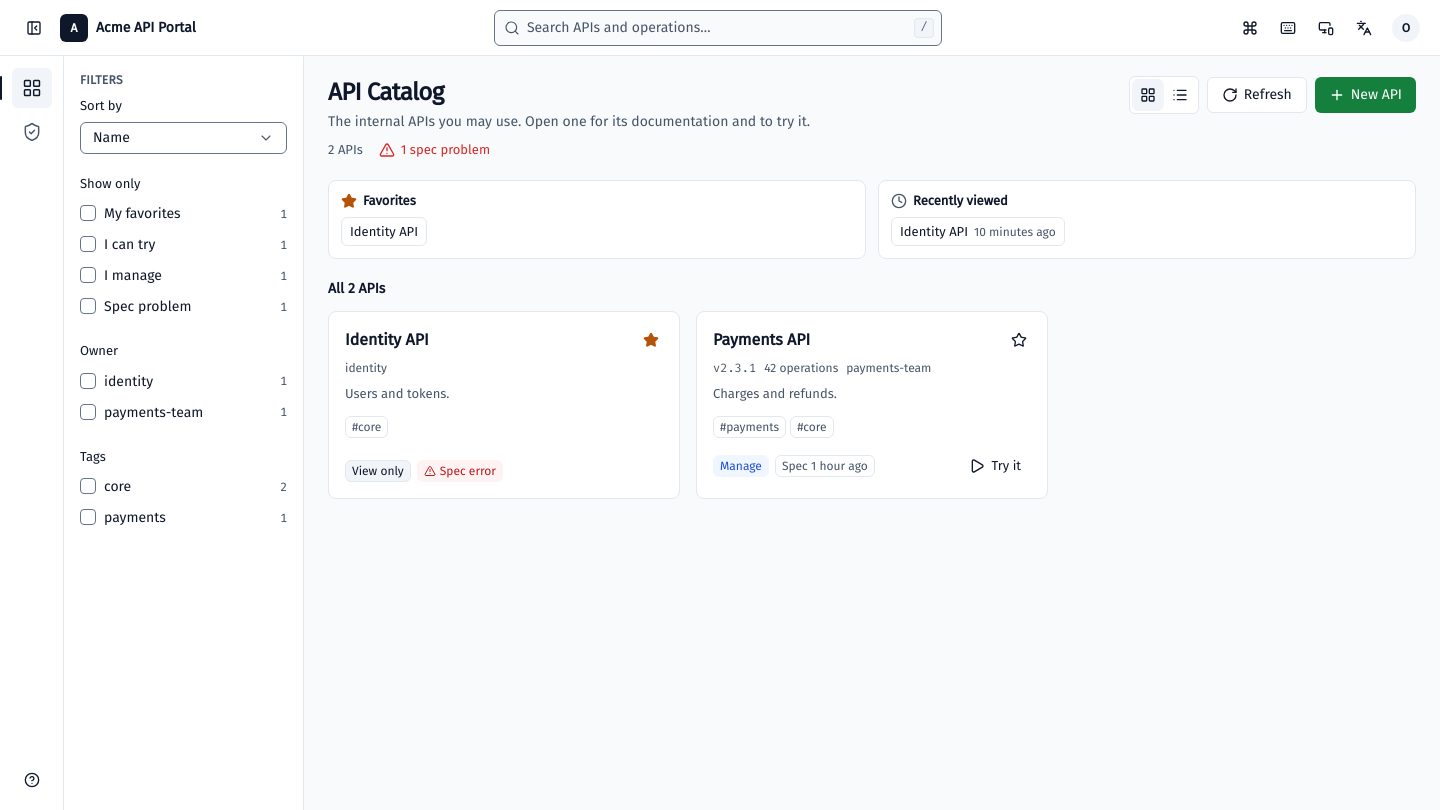
Test: shell › SHOW_PROJECT_LINK=false hides the link; the version stays in the shortcuts window
Expected: the heading "API Catalog" is shown, [328,78,444,106]
Step 1. Click the button named "Keyboard shortcuts" → (1288, 28), box [1270,10,1306,46]
(page scrolled)
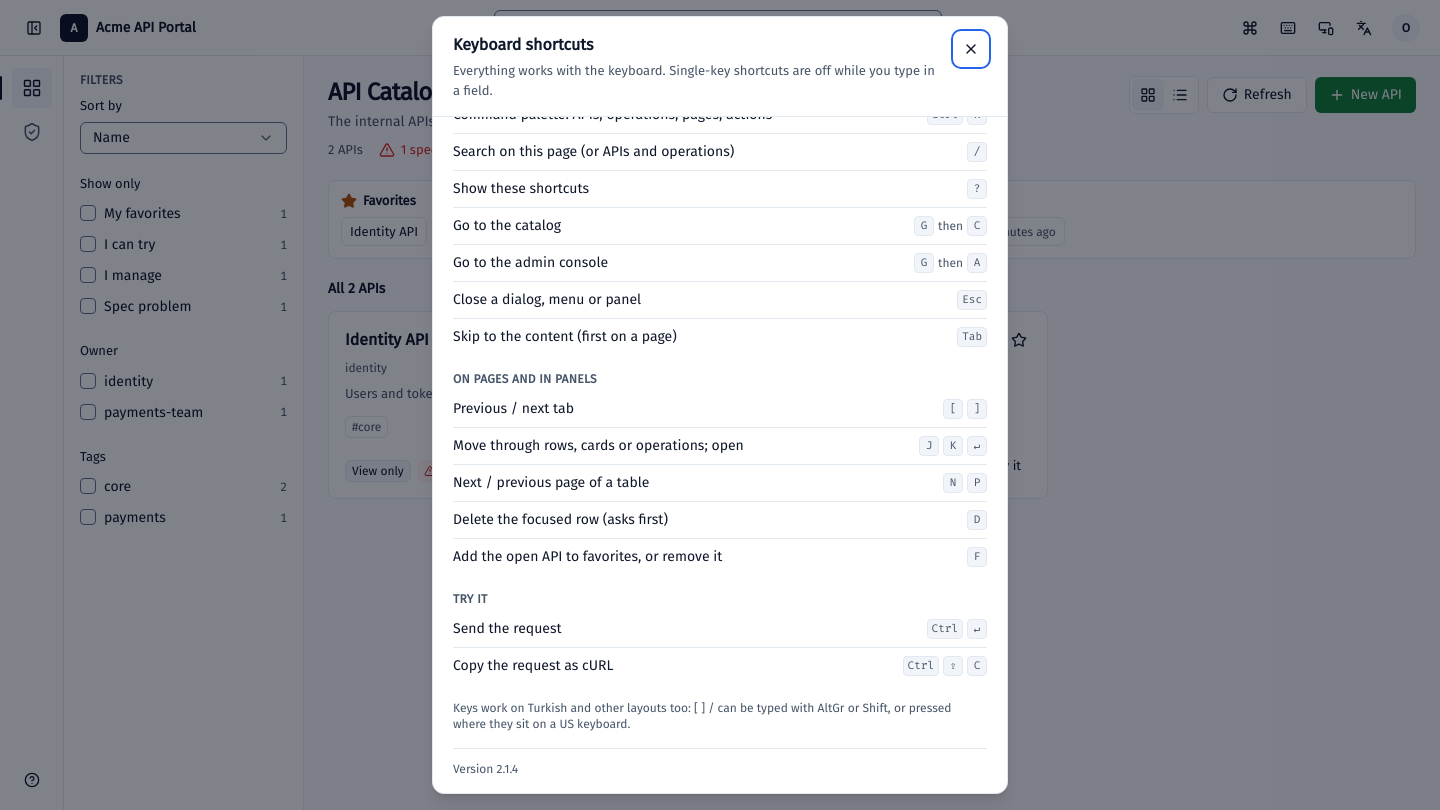
Now the text "Version 2.1.4" is shown, box [453,761,518,777]
